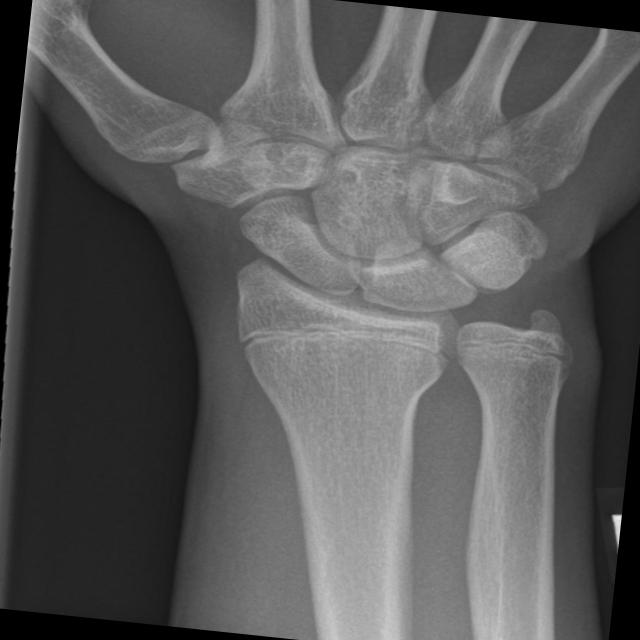fracture: (230, 300, 452, 386), (444, 318, 584, 382)
